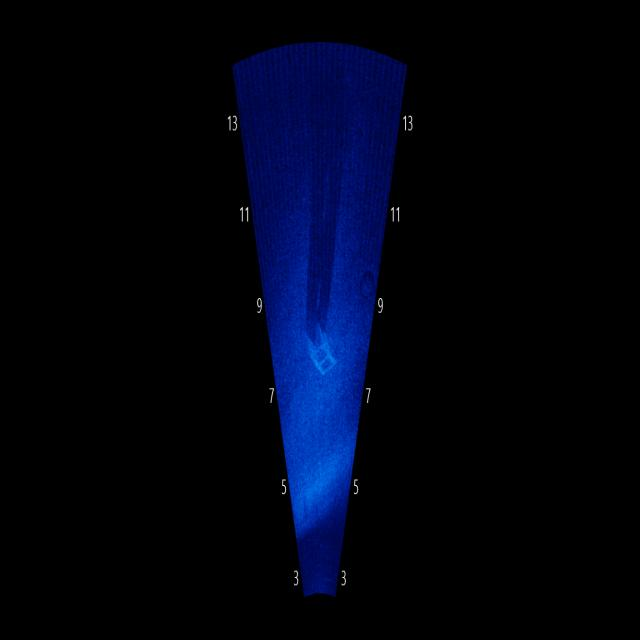square: (293, 306, 343, 392)
